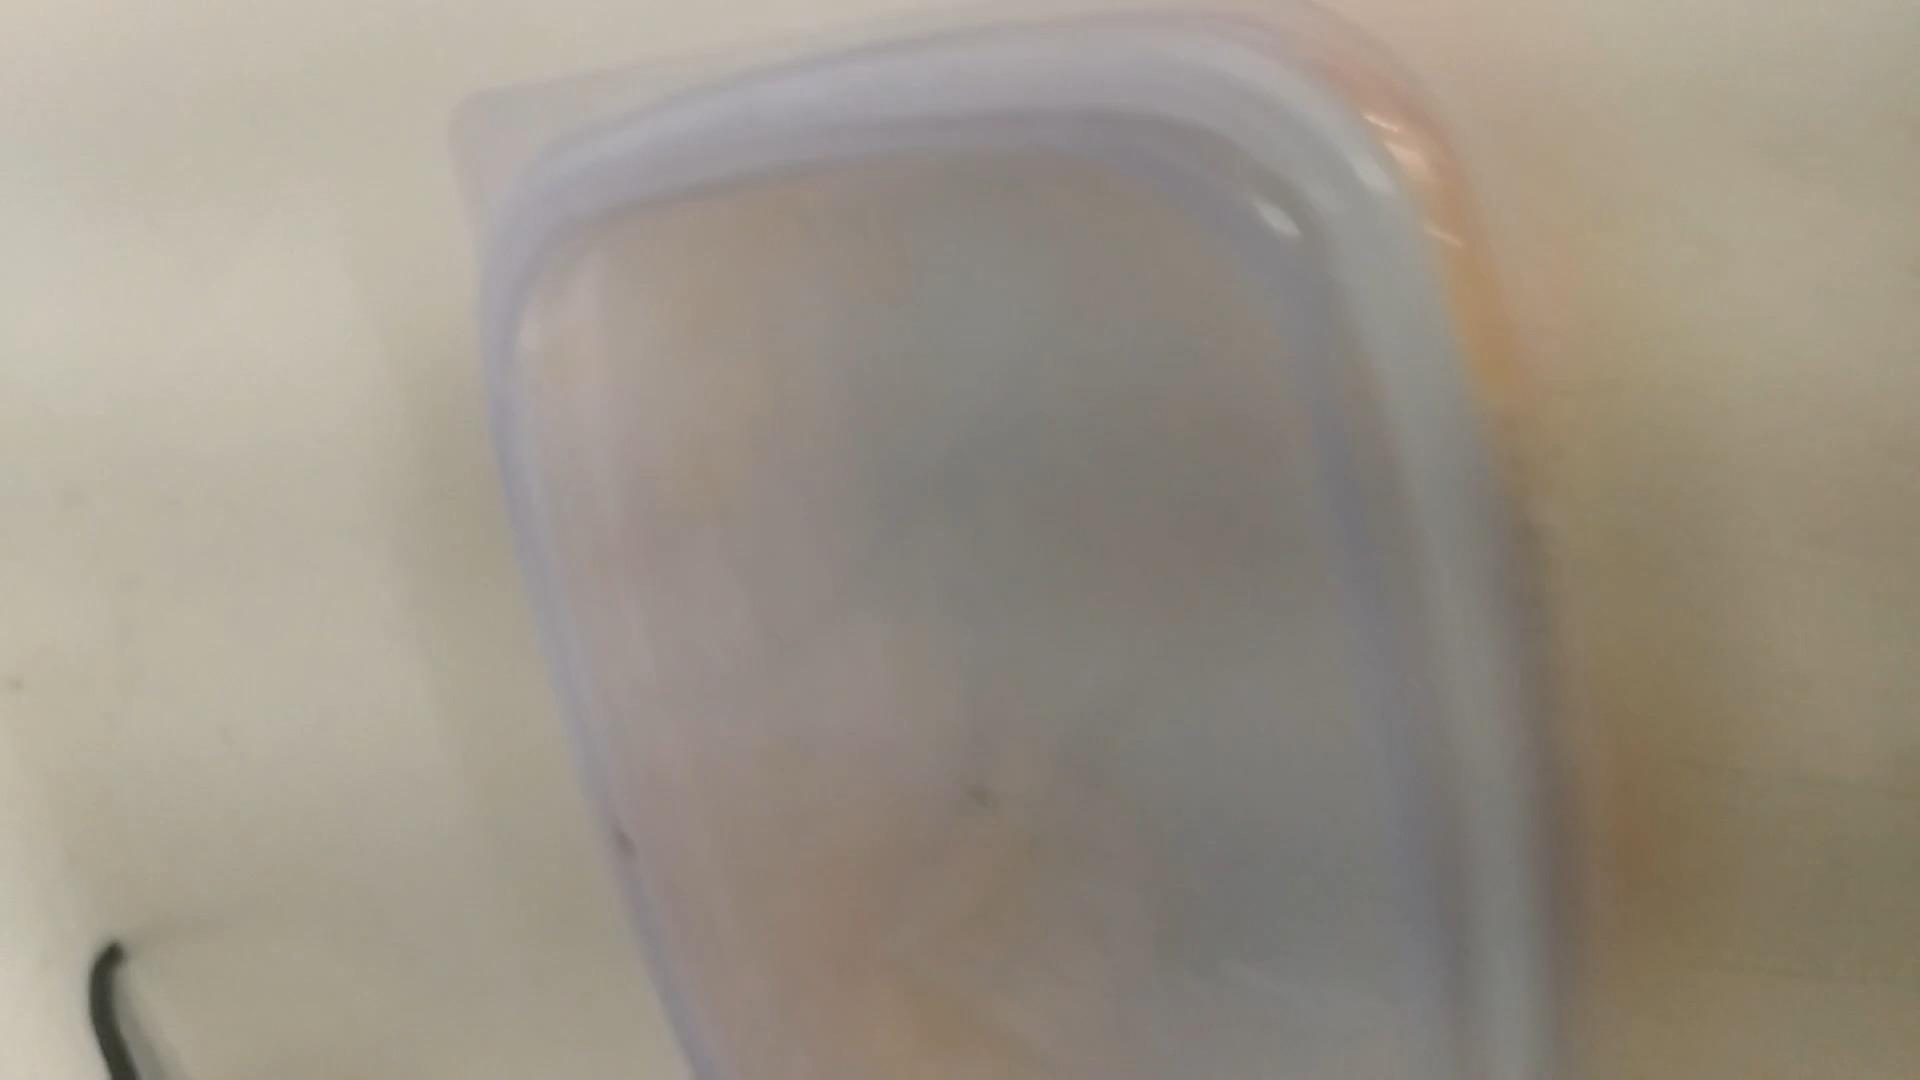butter: (450, 0, 1600, 1080)
